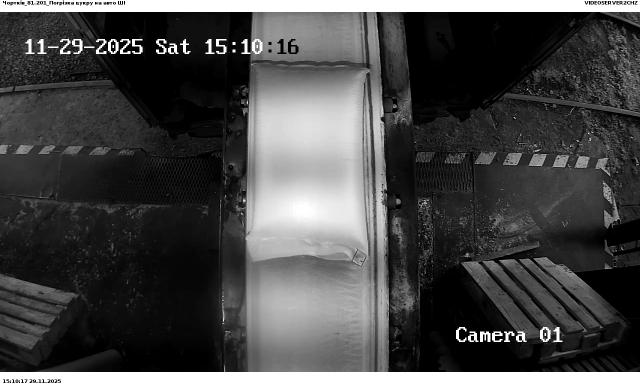bag: (250, 63, 371, 266)
